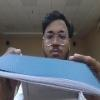notebook: (0, 52, 99, 99)
